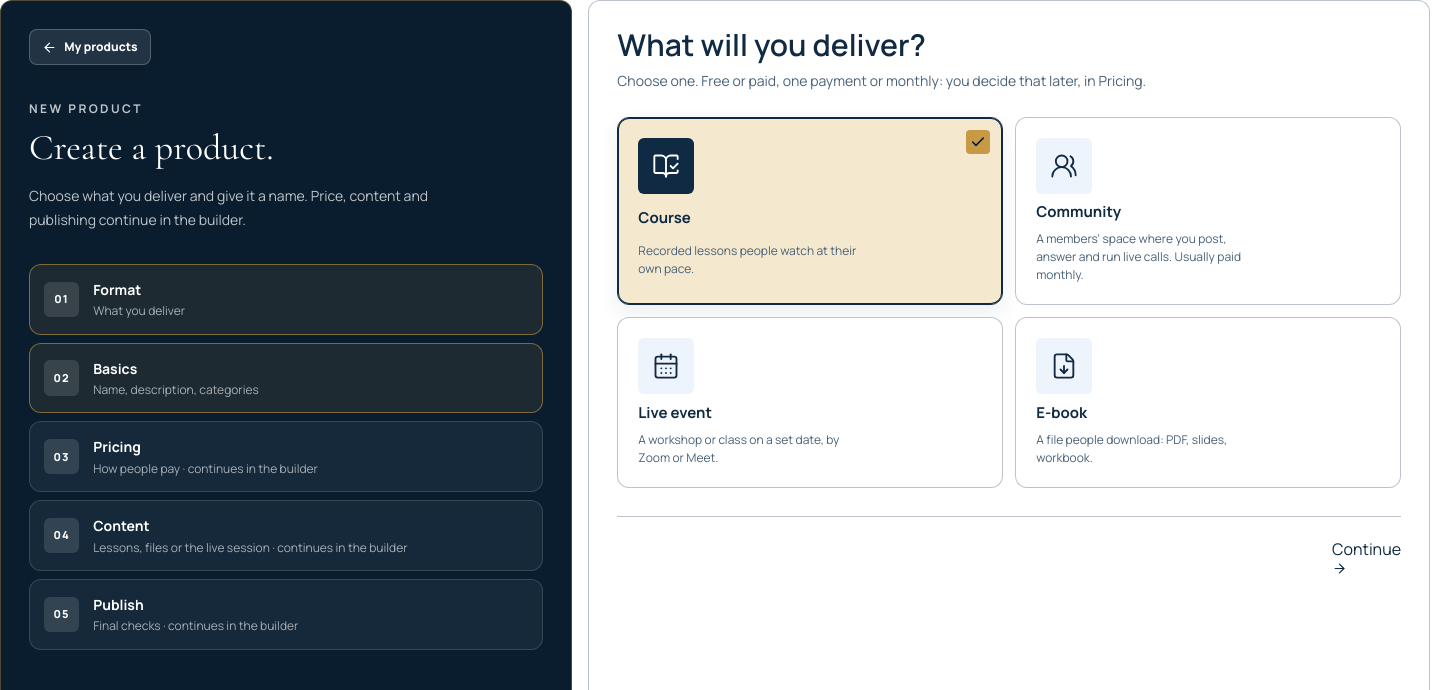
CreateCourseStart — tela 2 grava o tipo › so o evento pergunta data, hora e link
This screenshot has width=1440, height=690.
Click the button "Course Recorded lessons people watch at their own pace.": (666, 166) [617,116,1003,305]
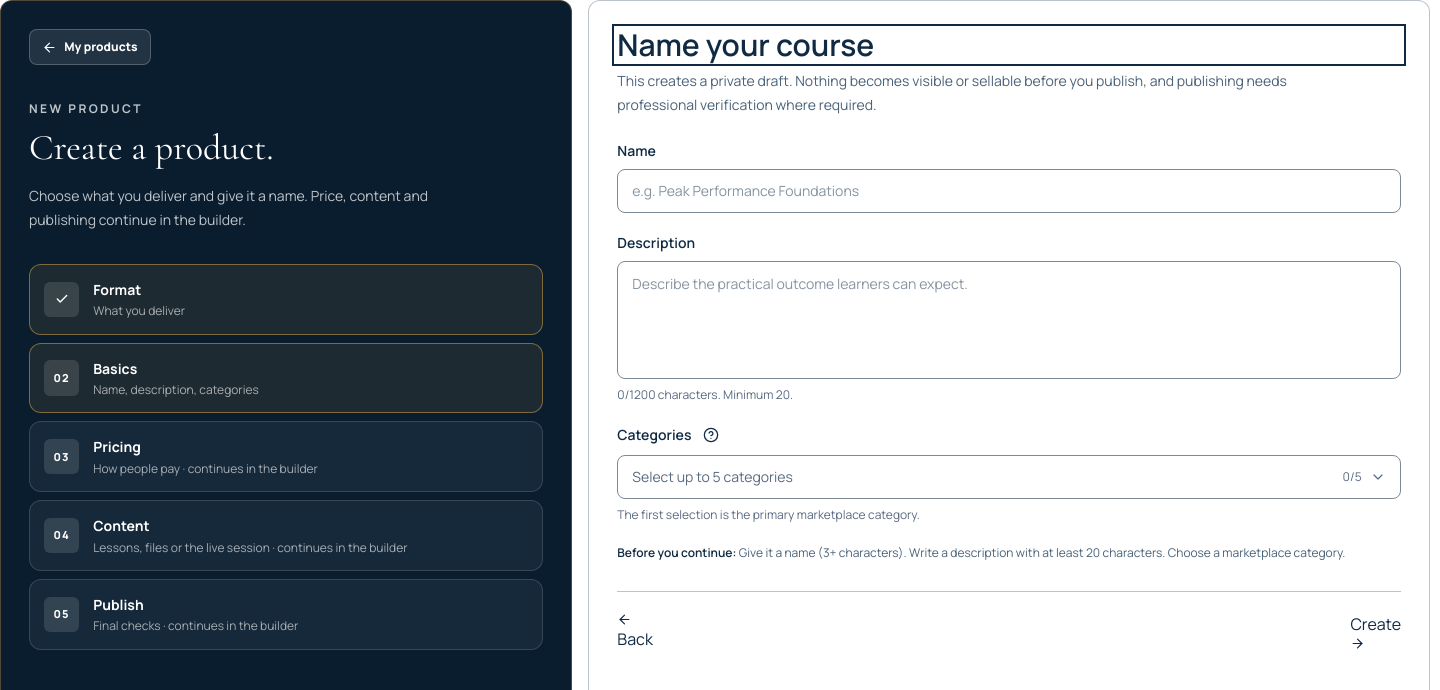
Result: the button labelled "date" is gone
